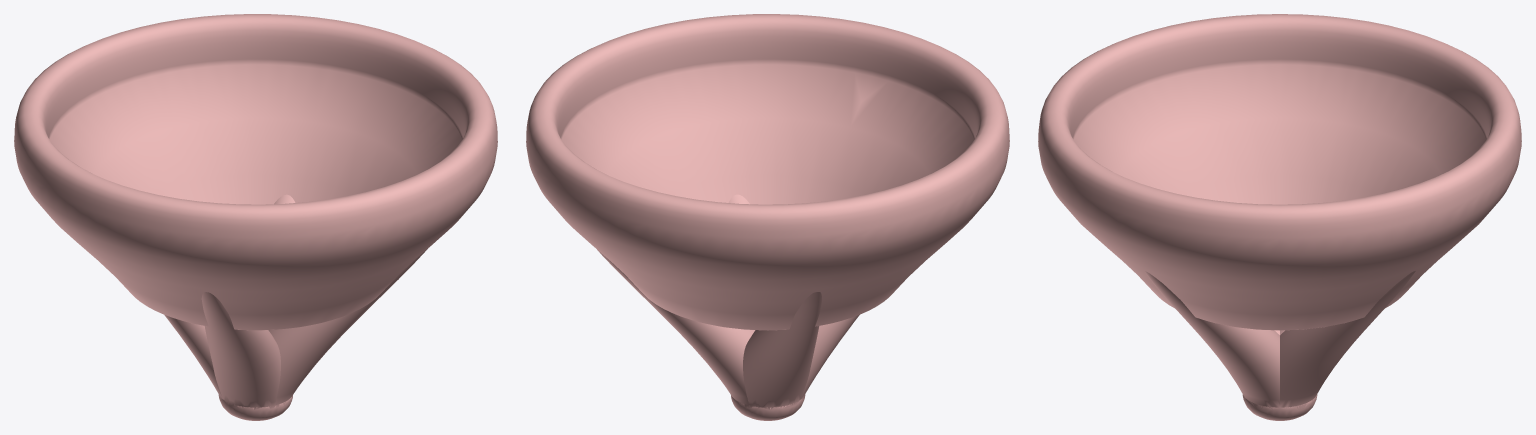
The model's file is BEZEL.glb.
3 views of the same model, side by side, from view 1: azimuth 30°, elevation 25°; view 2: azimuth 150°, elevation 25°; view 3: azimuth 270°, elevation 25° (orthographic).
Visible parts, largest first — view 1: bezel; view 2: bezel; view 3: bezel.
Boxes of the visible parts, x1,y1,x2,y2 form: bezel: (14,14,497,420); bezel: (526,14,1009,420); bezel: (1038,14,1521,420).
Bounding box in the file's own units: 5.8 × 4.01 × 5.8.
